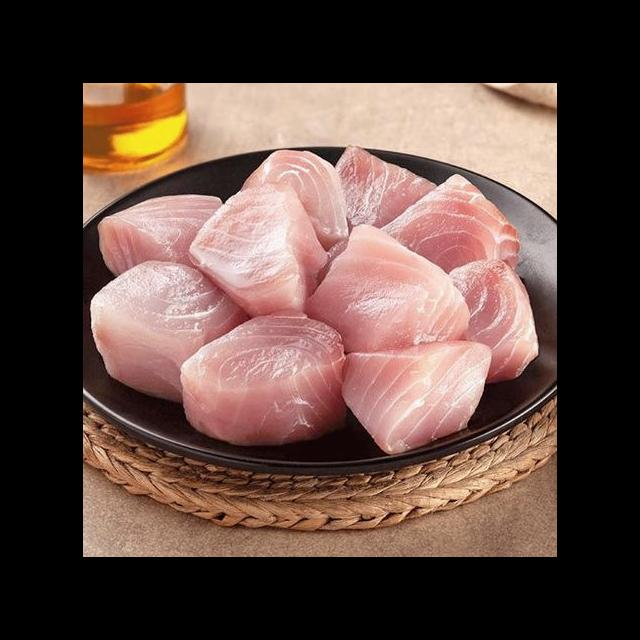fish: (177, 303, 349, 449), (178, 178, 315, 322)
